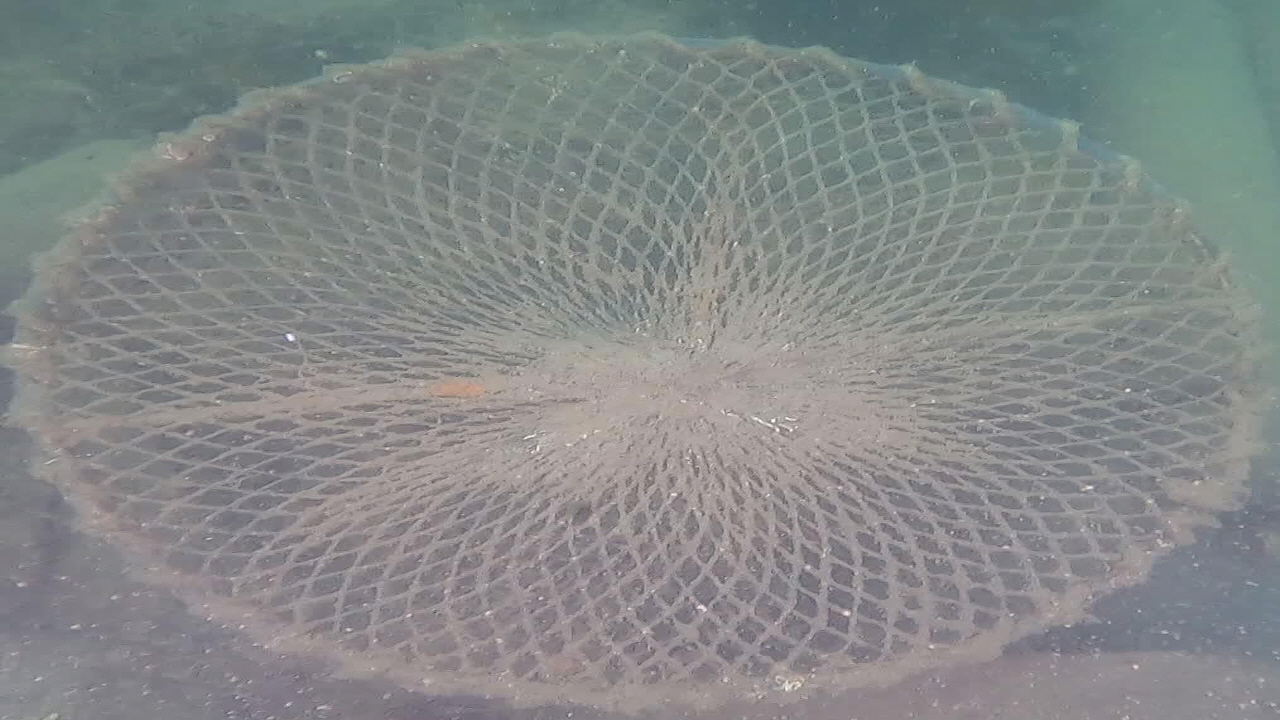circular fish trap: (16, 33, 1257, 713)
